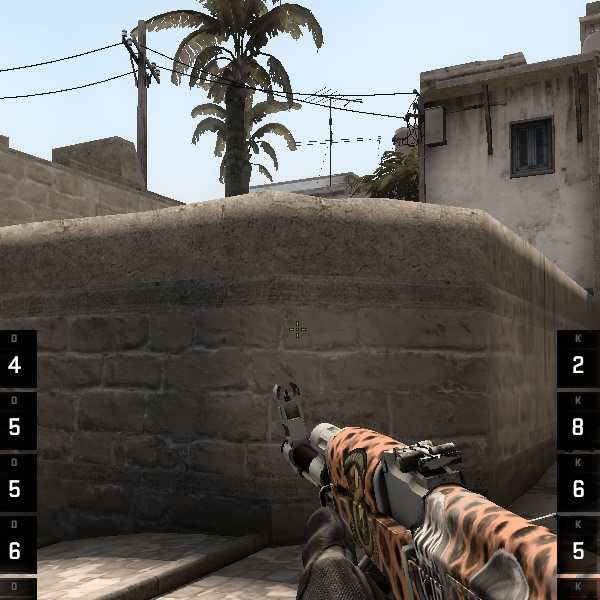ct_body: (369, 136, 428, 199)
